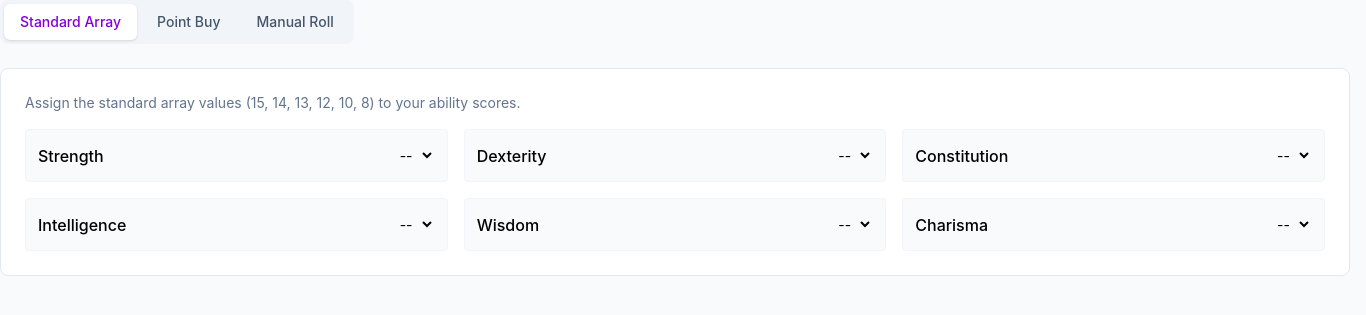
Test: AbilityScoresStep › switches to point buy and handles points correctly
Note: Switch to point buy tab
What coordinates should you click on to do the following:
click the button "Point Buy"
I would click on:
 (189, 22)
Its box is [141,4,236,40].
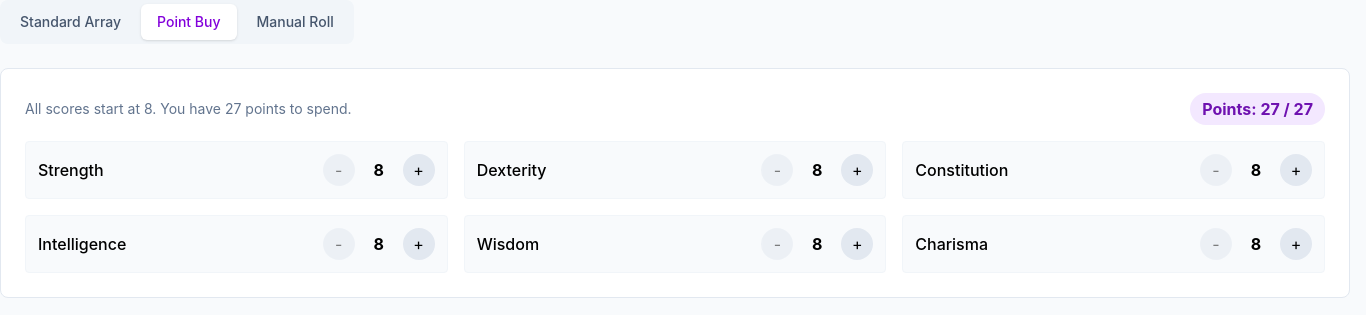
expect the text "All scores start at 8. You have 27 points to spend." is shown: met, box [25,99,352,119]
Note: Click the + button for strength (first one)
What coordinates should you click on to do the following:
click the button "+" in the row of "strength"
I would click on:
 (419, 170)
Its box is [403,154,435,186].
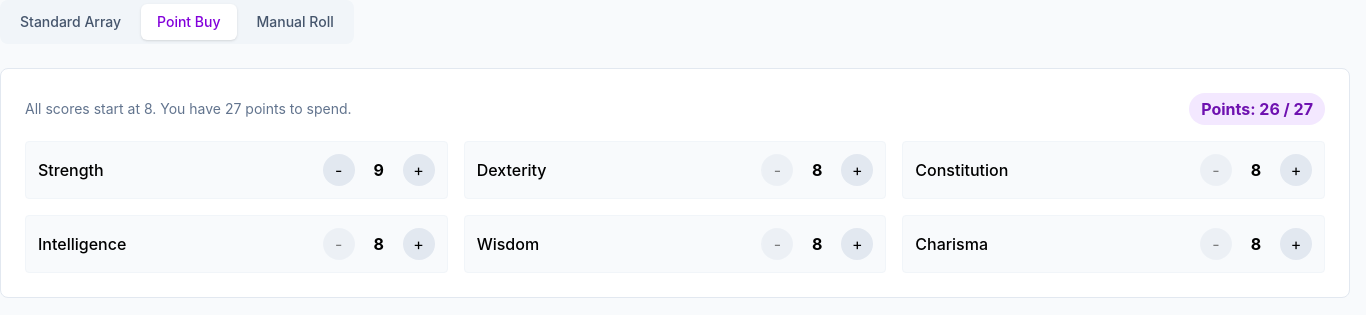
expect the text "Points: 26 / 27" is shown: met, box [1189,93,1325,125]
